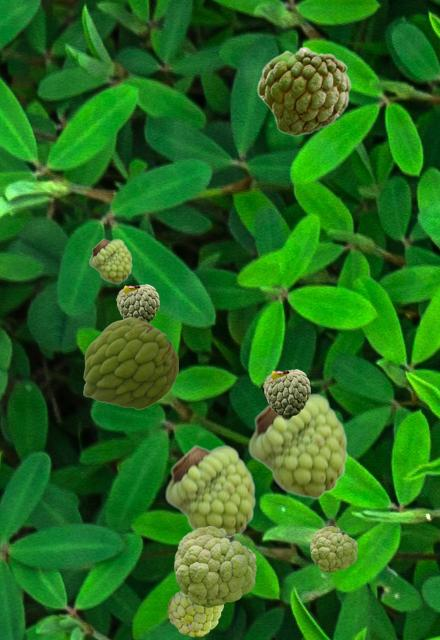atis: (248, 393, 347, 499), (83, 317, 177, 408), (256, 46, 350, 135), (165, 444, 255, 535), (174, 526, 255, 606), (167, 590, 222, 635), (263, 369, 309, 418), (310, 526, 356, 571), (89, 238, 131, 283), (116, 284, 158, 323)
